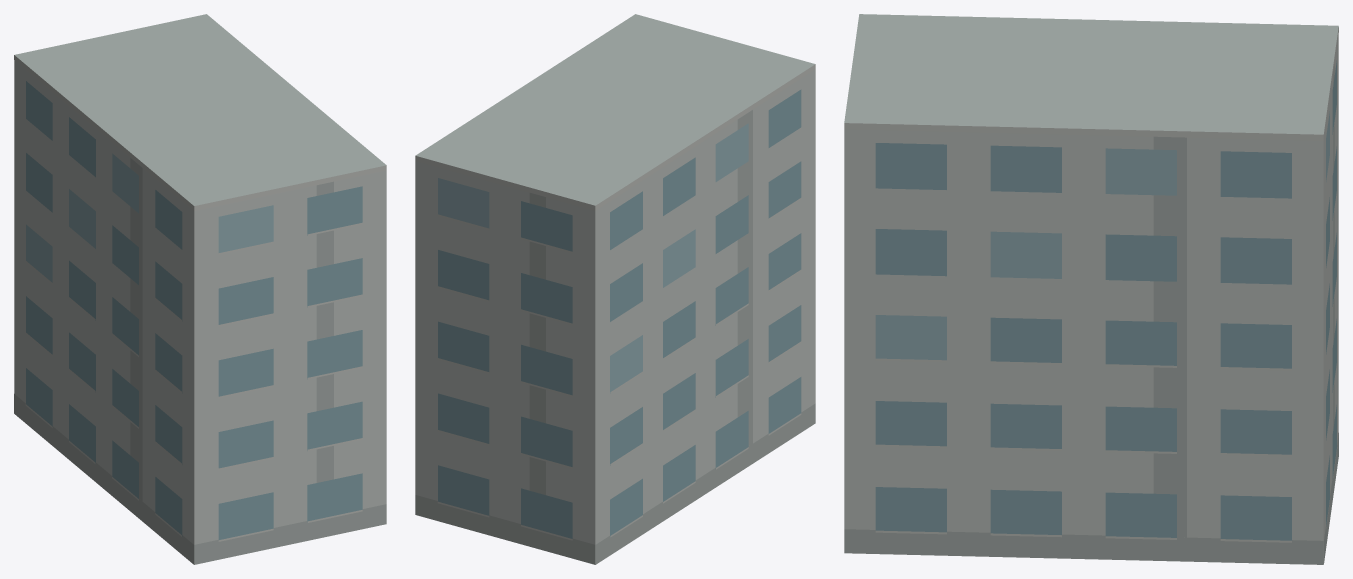
The model's file is survey-upis-32551787.glb.
3 views of the same model, side by side, from view 1: azimuth 30°, elevation 25°; view 2: azimuth 150°, elevation 25°; view 3: azimuth 270°, elevation 25° (orthographic). The views are drawn at different scales.
Visible parts, largest first — view 1: survey-upis-32551787.tmp; view 2: survey-upis-32551787.tmp; view 3: survey-upis-32551787.tmp.
Part boxes in pixels (x1,y1,x2,y2): survey-upis-32551787.tmp: (14, 14, 386, 564); survey-upis-32551787.tmp: (415, 14, 815, 564); survey-upis-32551787.tmp: (844, 14, 1338, 564).
Size of the model in its own units: 10.24 by 17 by 17.73.
